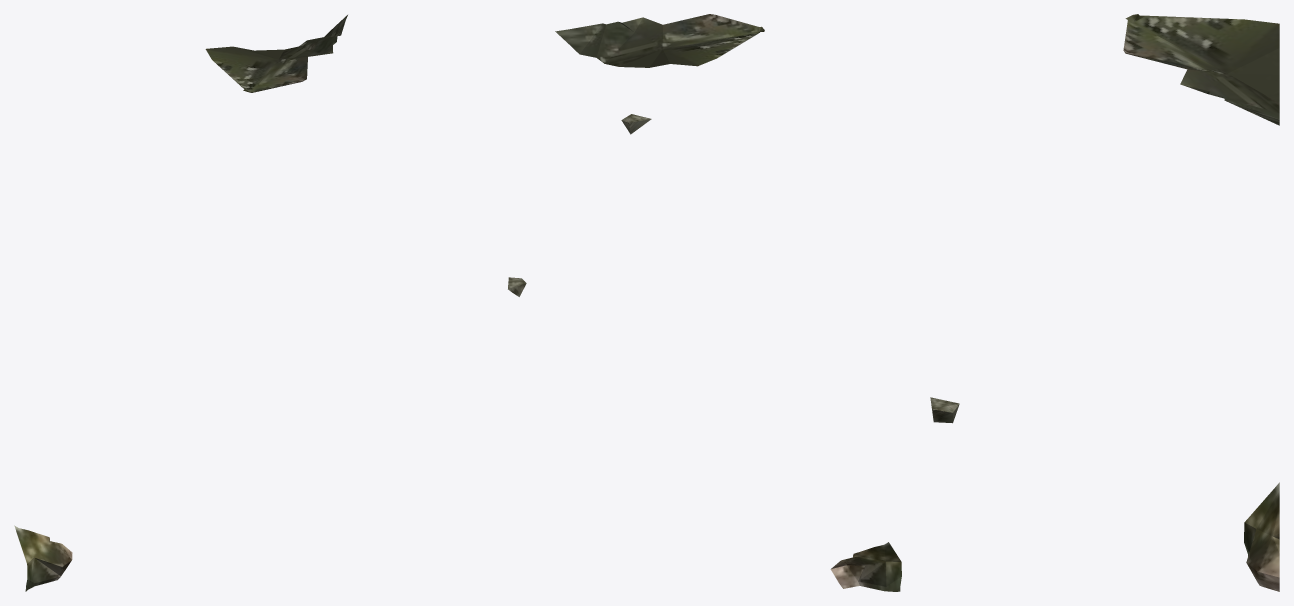
3 views of the same model, side by side, from view 1: azimuth 30°, elevation 25°; view 2: azimuth 150°, elevation 25°; view 3: azimuth 270°, elevation 25° (orthographic). The views are drawn at different scales.
Size of the model in its own units: 2.45 by 2.95 by 1.4.
Materials: 1 (1 with a texture image).
